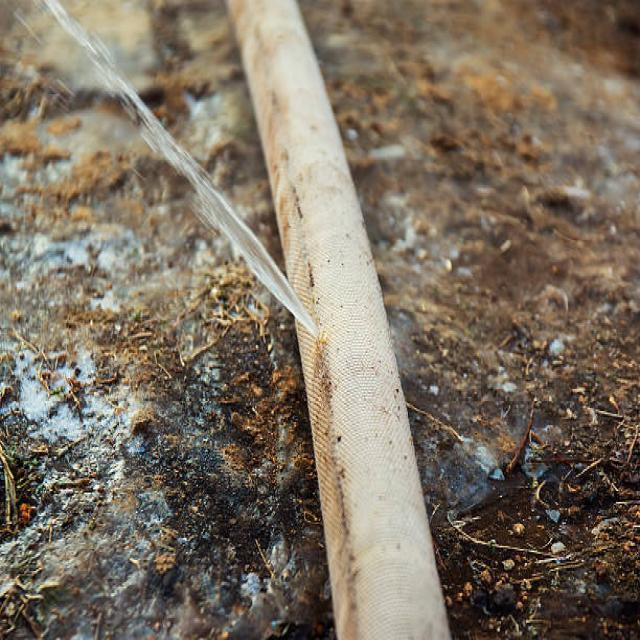pipe burst: (24, 0, 326, 345)
